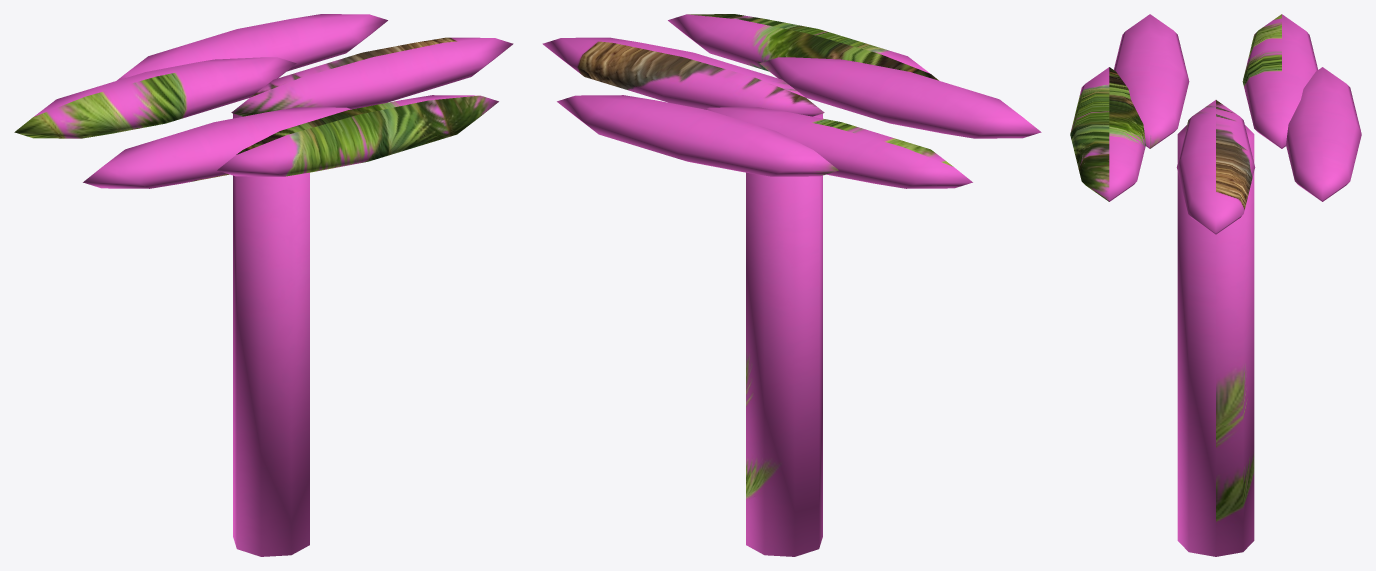
Rendered from palm.glb.
3 renders of one model, left to right at view 1: azimuth 30°, elevation 25°; view 2: azimuth 150°, elevation 25°; view 3: azimuth 270°, elevation 25°, orthographic. The views are drawn at different scales.
Visible parts, largest first — view 1: palm_body; view 2: palm_body; view 3: palm_body.
Part boxes in pixels (x1,y1,x2,y2): palm_body: (14,14,513,556); palm_body: (542,14,1041,556); palm_body: (1070,14,1361,556).
Bounding box in the file's own units: 2.33 × 2.2 × 1.32.
1 material, 1 textured.
